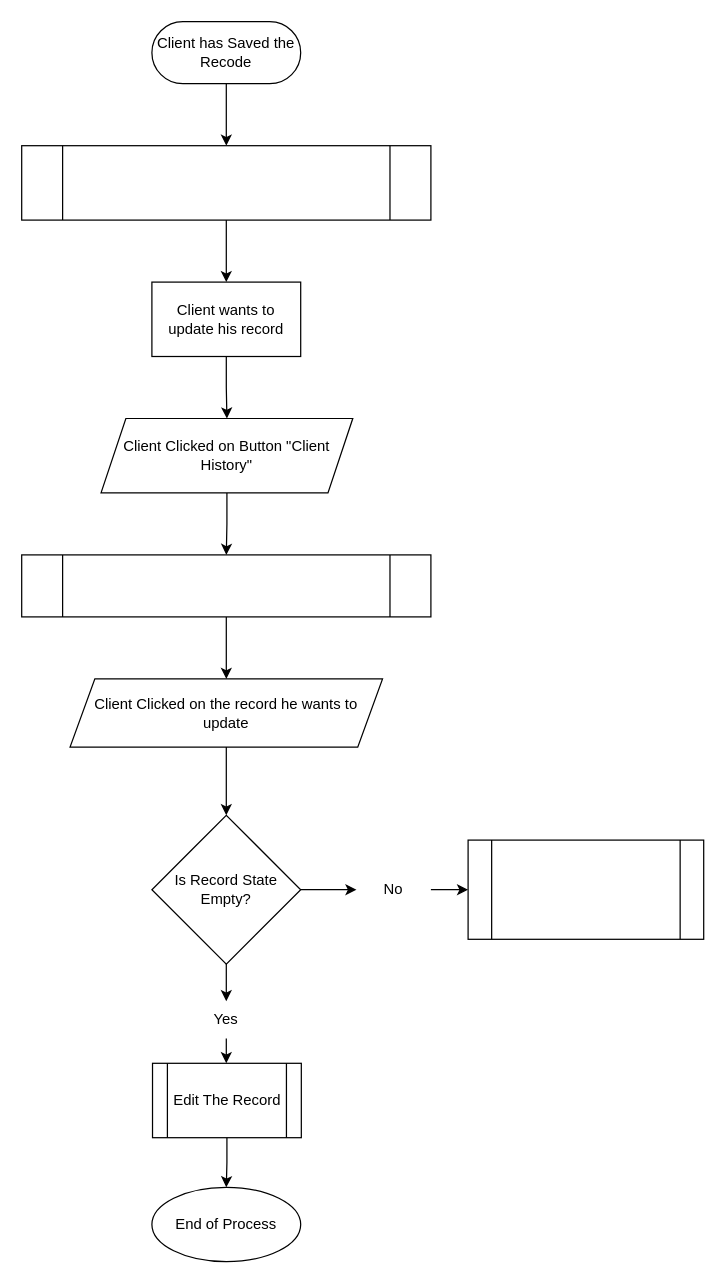
Image size: 725x1283. Some labels were removed from this diagram. Here are the shapes that lost their labels. From the top down, the centre of each, then its label:
(225,182): Record Saved at the Main Database but Approval State at this stage is EMPTY
(225,585): Client can see all his records till now he has submitted to the main database
(585,889): Record is already updated by the approver. kindly submit the new record
